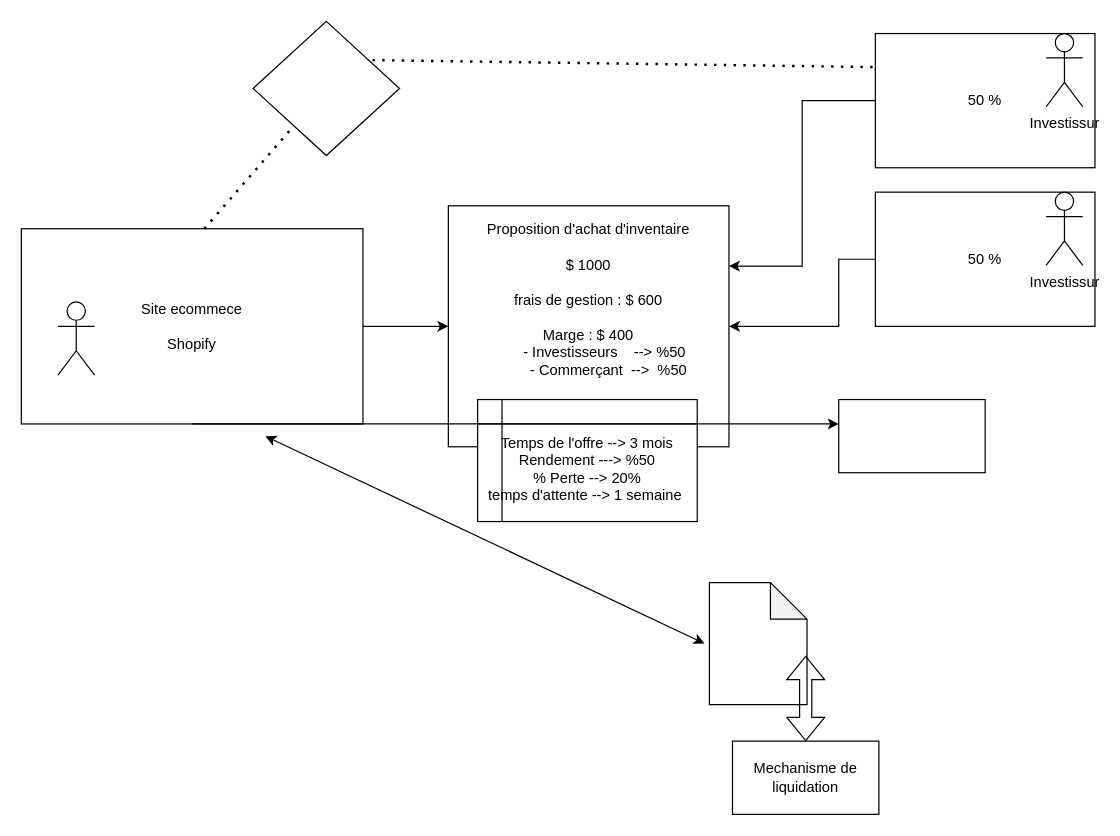
Some shapes in this 1120 by 836 pixel diagram are drawn without their labels. Each missing label, with the box of its shape:
1 ETH Collateral: (708, 581, 807, 705)
Commerçant: (57, 301, 95, 375)
Preuve d'achat: (838, 398, 985, 473)
Token StockToChain: (252, 20, 400, 156)
